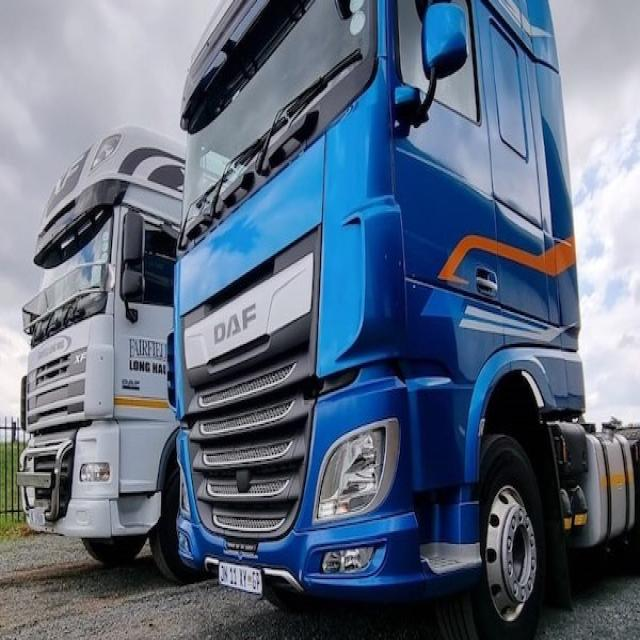Heavy Duty Truck: (173, 1, 640, 638), (12, 113, 177, 582)
